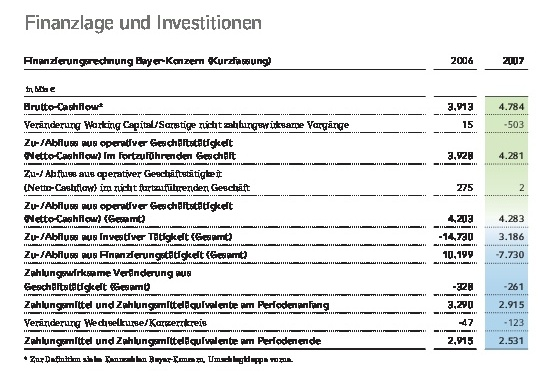table: (0, 0, 540, 378)
